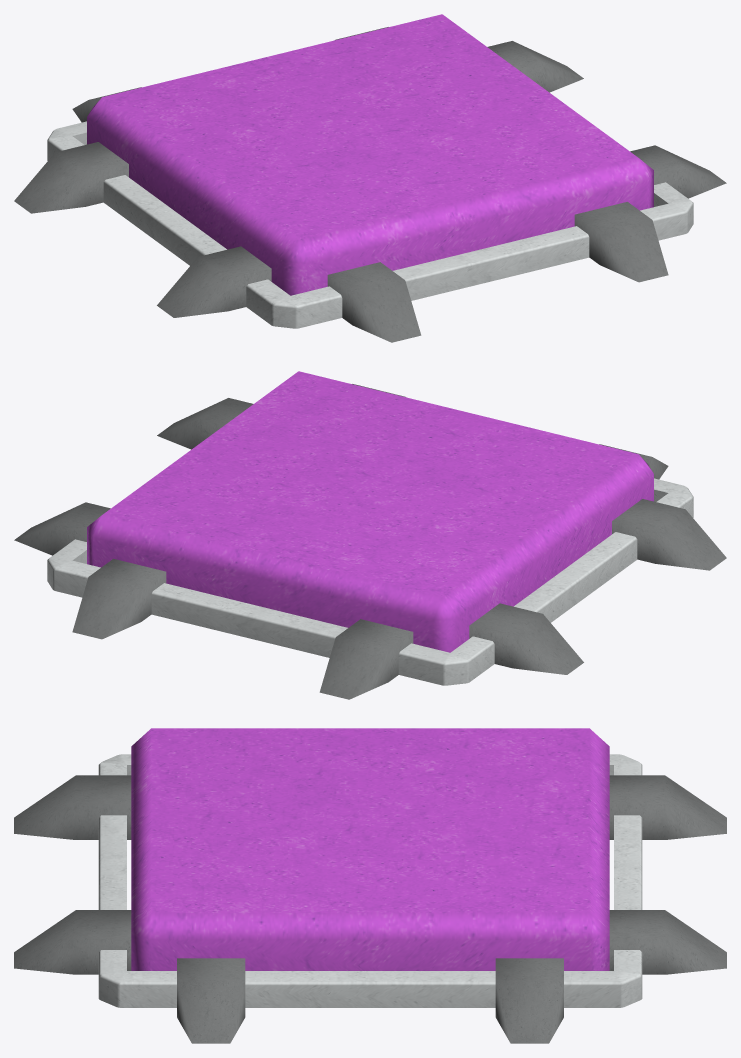
Rendered from switchMesh.fbx.
3 renders of one model, top to bottom at view 1: azimuth 30°, elevation 25°; view 2: azimuth 150°, elevation 25°; view 3: azimuth 270°, elevation 25°, orthographic. The views are drawn at different scales.
Visible parts, largest first — view 1: polySurface1; view 2: polySurface1; view 3: polySurface1.
Boxes of the visible parts, box(x1,y1,x2,y2) form: polySurface1: box(14, 14, 726, 342); polySurface1: box(14, 371, 726, 699); polySurface1: box(14, 728, 726, 1043).
Bounding box in the file's own units: 107 × 12 × 107.
